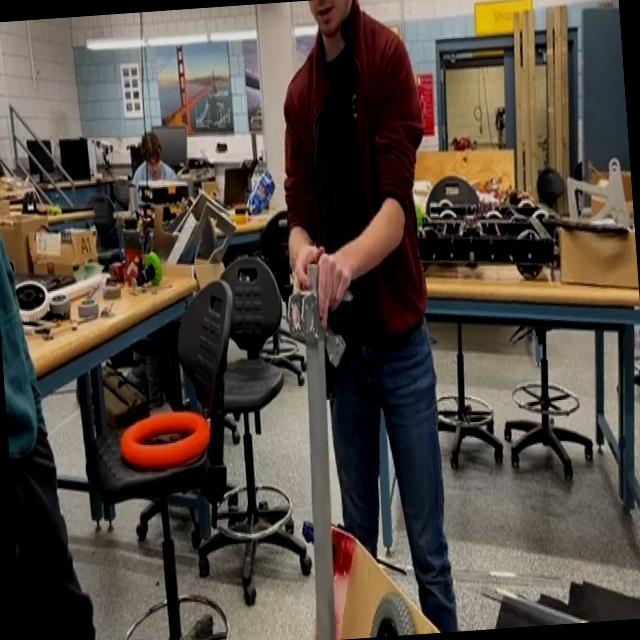note: (115, 402, 215, 477)
